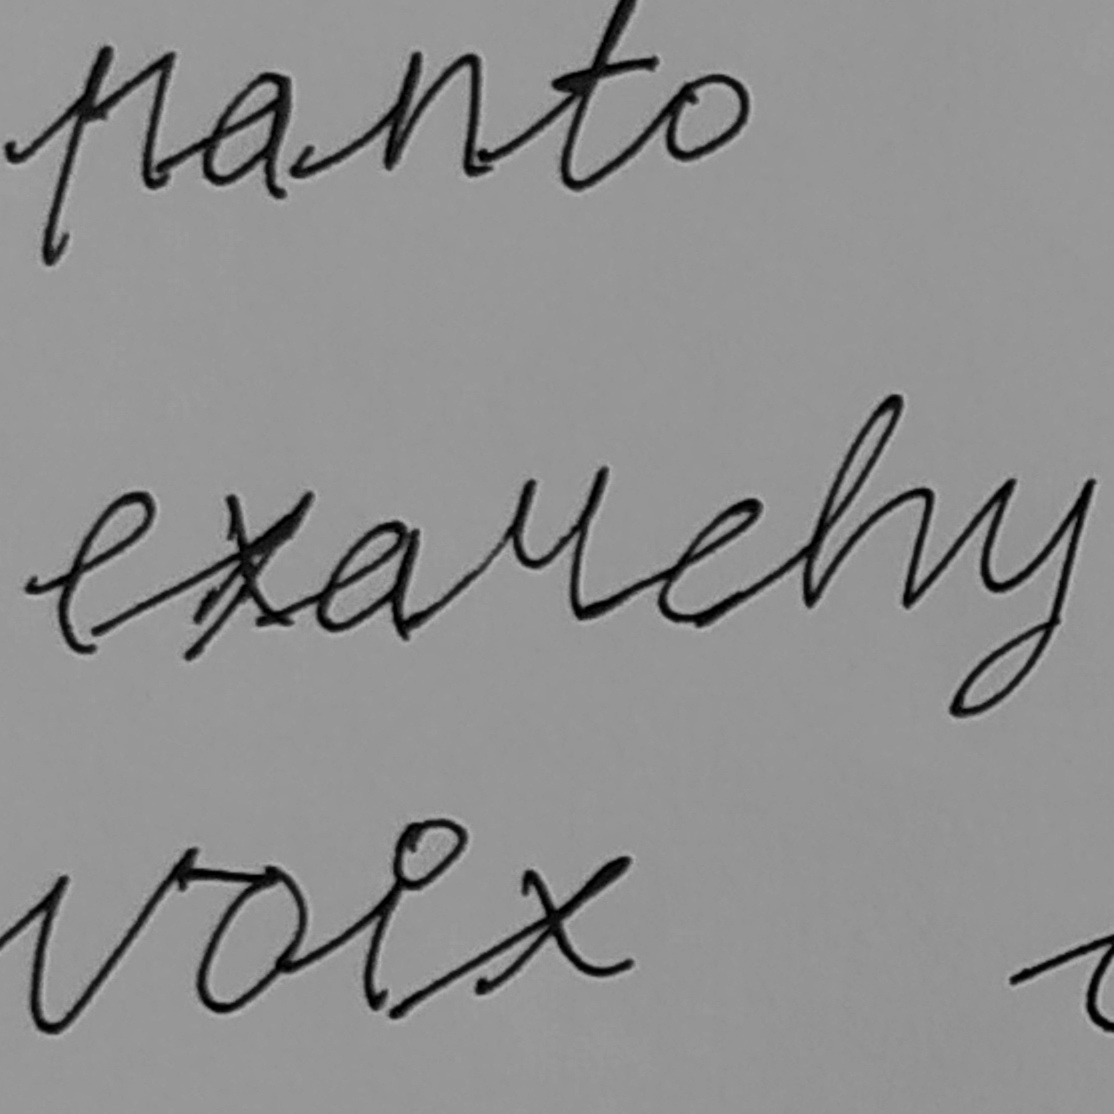a: (314, 513, 422, 647)
c: (654, 493, 769, 634)
e: (54, 487, 160, 661)
h: (795, 390, 942, 614)
r: (488, 462, 615, 625)
x: (178, 485, 313, 671)
y: (945, 472, 1098, 724)
